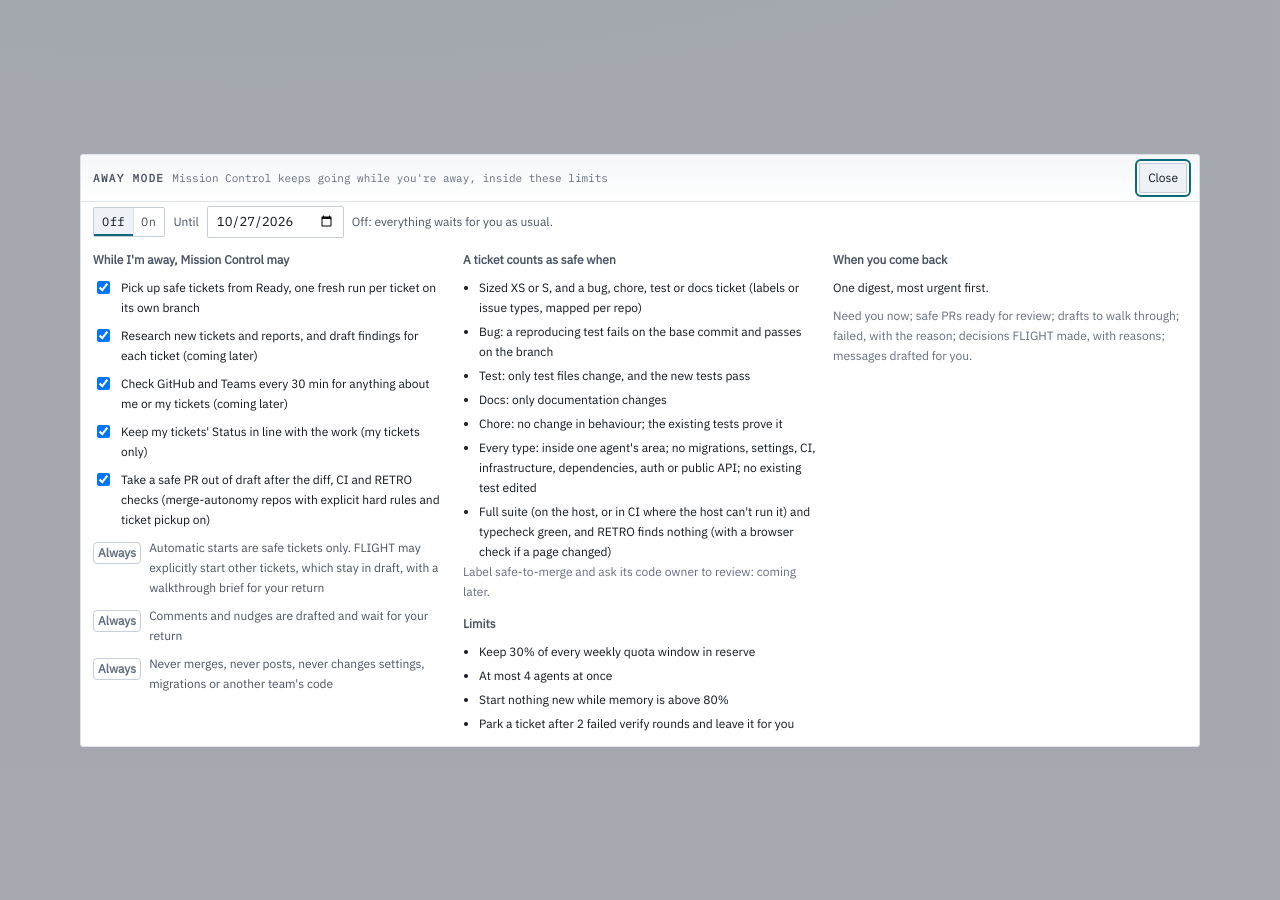
Test: AwayModal › turning On with no date saves today + 10 days and toasts
The image size is (1280, 900).
Step 1. Click the button "On" → coordinates (149, 222), box [133, 208, 164, 236]
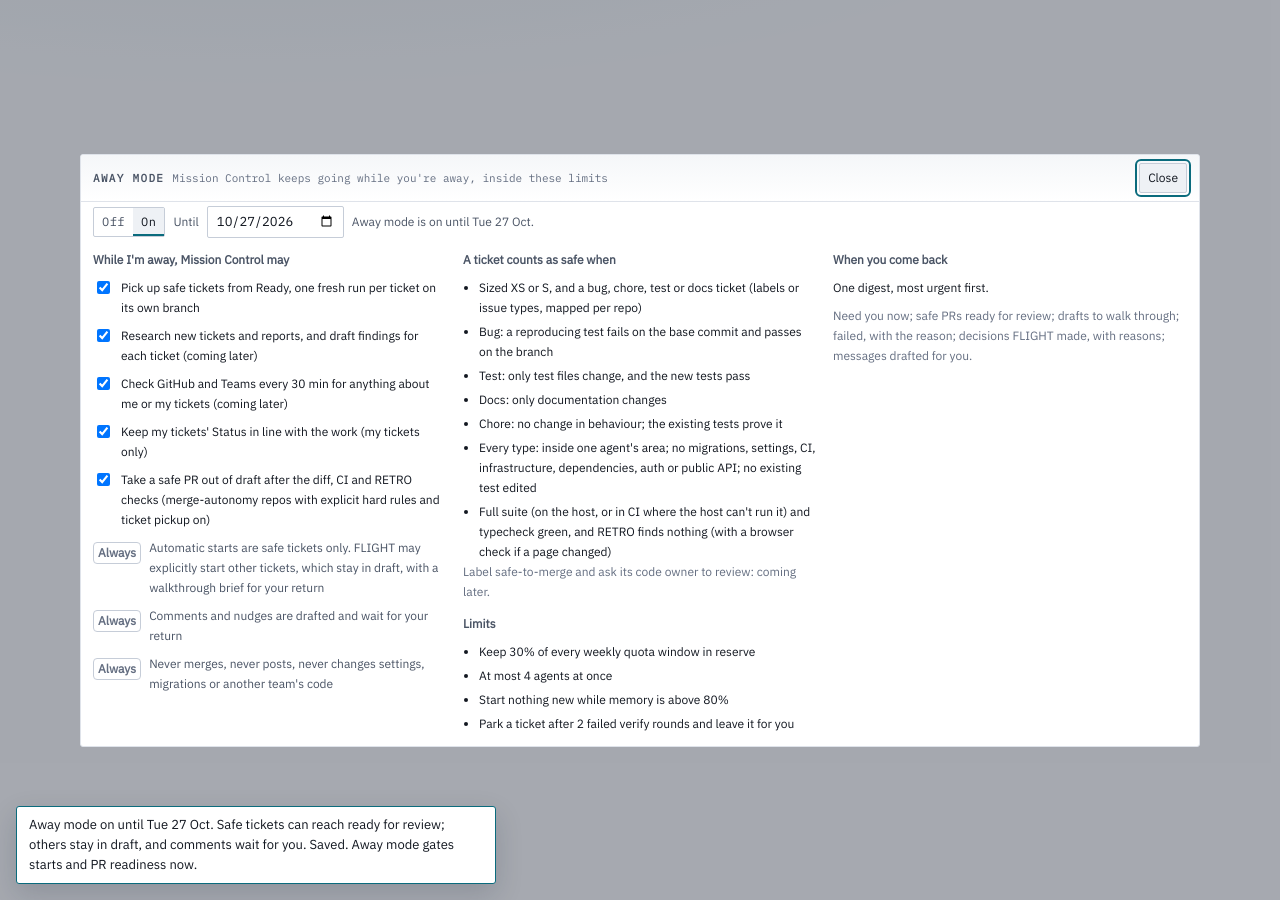
Expected: the text "Away mode is on until Tue 27 Oct." is shown, [352, 212, 534, 232]
